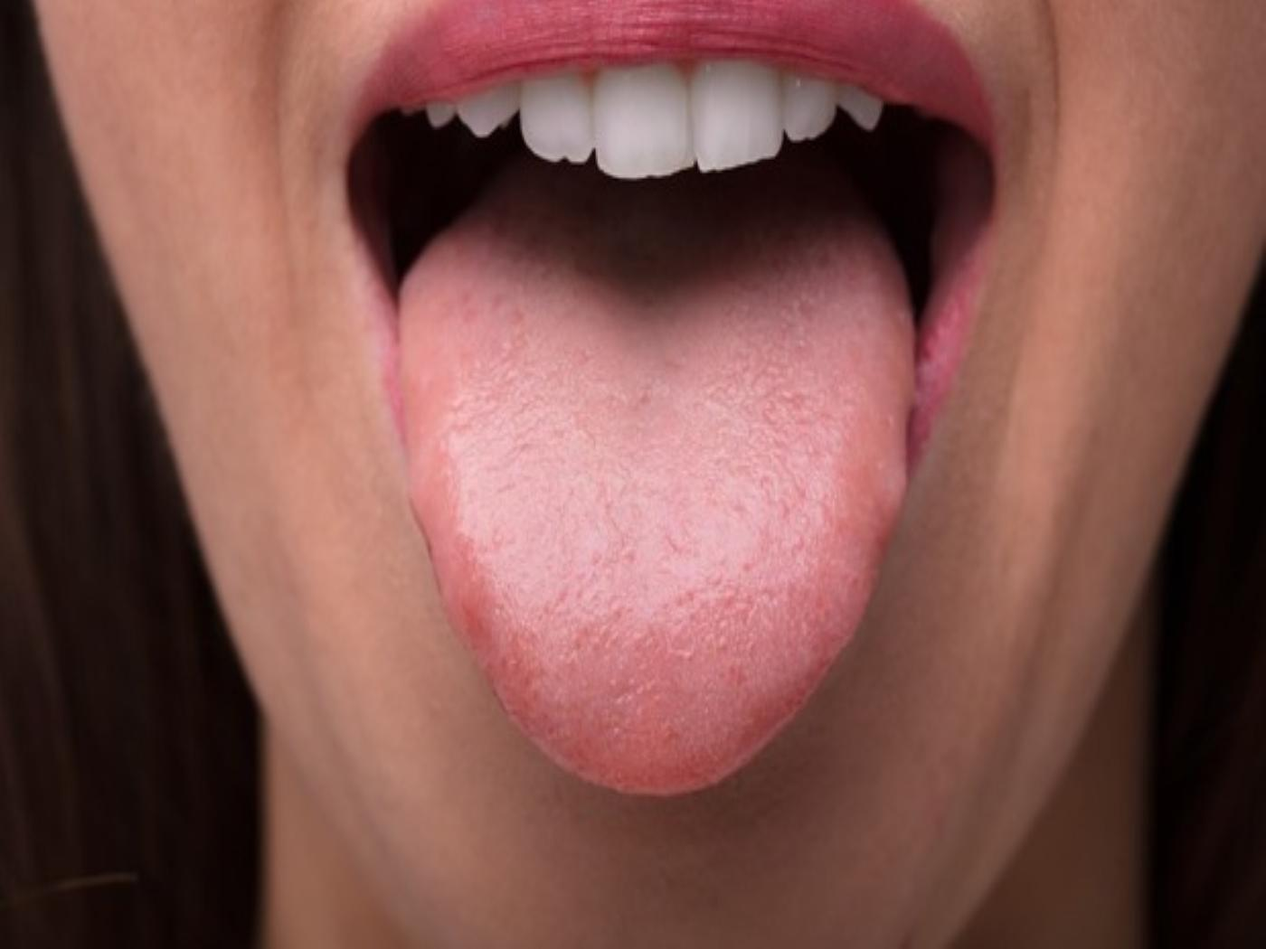baitaishe: (396, 240, 924, 796)
chihenshe: (400, 475, 507, 691), (858, 386, 923, 578)
